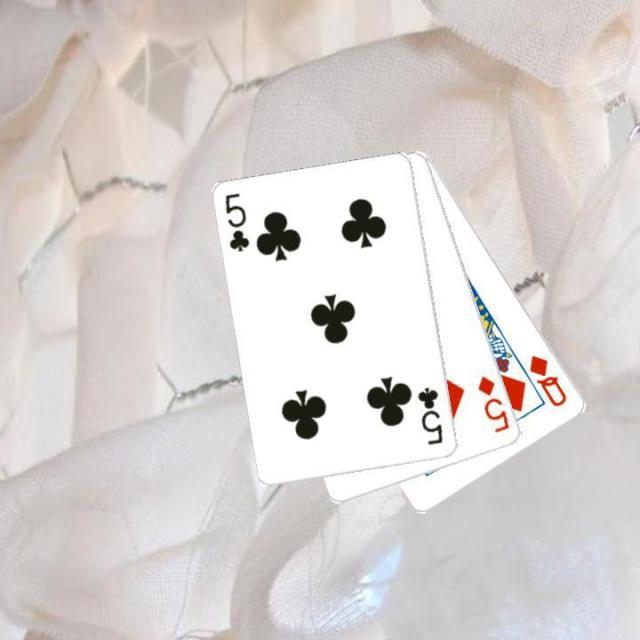5C: (415, 384, 446, 447), (222, 190, 252, 255)
5D: (474, 372, 512, 435)
QD: (525, 351, 569, 409)
